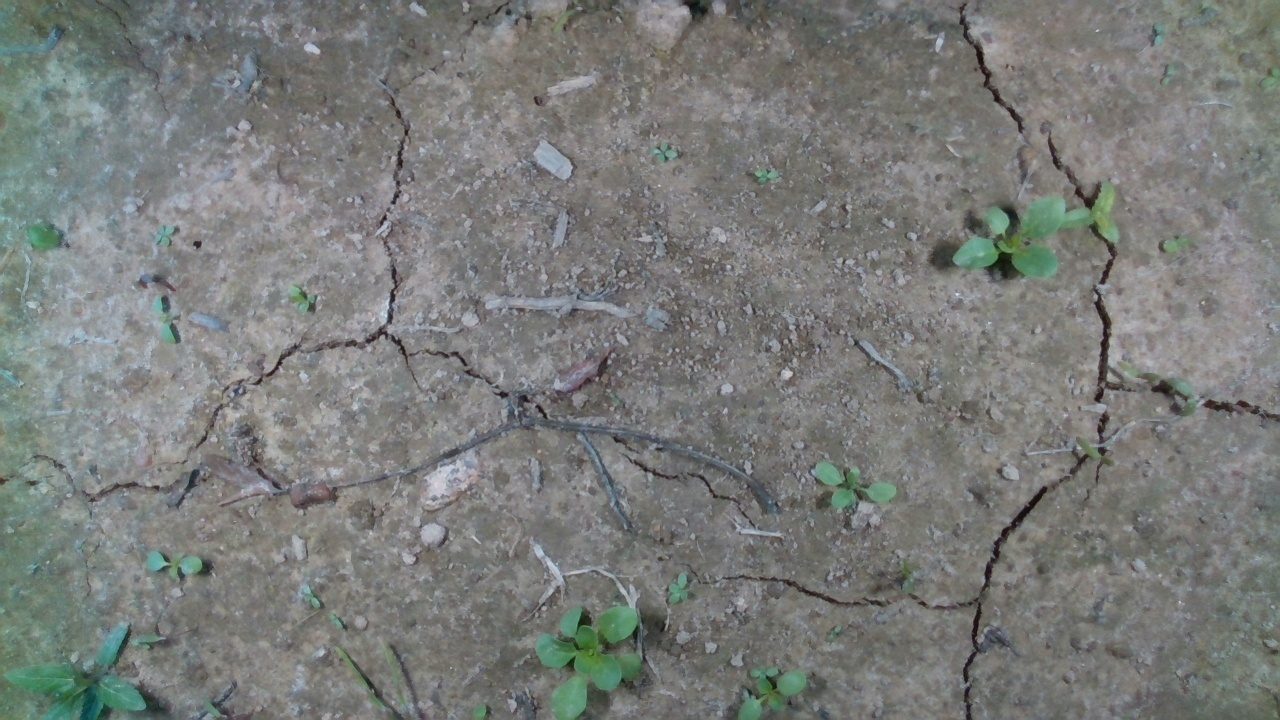weed: (808, 455, 901, 517), (143, 294, 199, 345), (1068, 437, 1136, 478), (138, 550, 218, 574), (277, 282, 319, 321), (747, 164, 802, 190), (663, 575, 709, 603), (637, 142, 681, 167), (147, 218, 181, 249), (1149, 223, 1192, 247), (828, 624, 869, 646), (296, 594, 331, 612)
